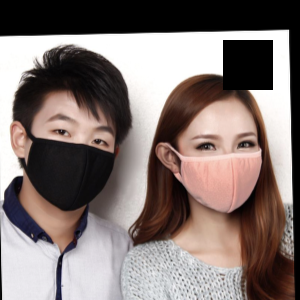with_mask: (24, 111, 118, 214), (180, 129, 264, 217)
